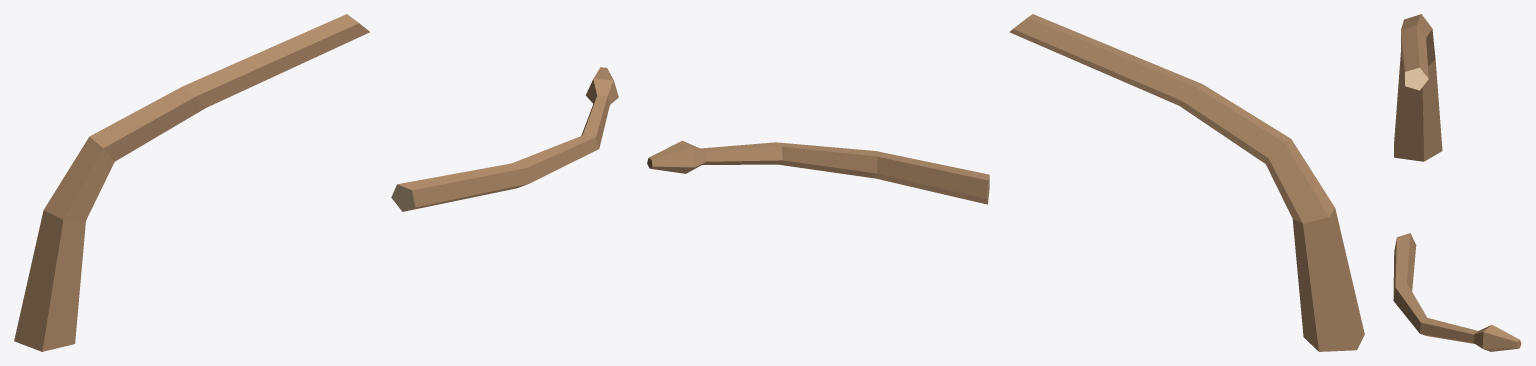
The model's file is Palm_Tree_NoLeaves_crk_m_BT_04.fbx.
3 views of the same model, side by side, from view 1: azimuth 30°, elevation 25°; view 2: azimuth 150°, elevation 25°; view 3: azimuth 270°, elevation 25° (orthographic). The views are drawn at different scales.
Parts seen in each view (by area): view 1: Palm_Tree_NoLeaves_crk_m_BT_04; view 2: Palm_Tree_NoLeaves_crk_m_BT_04; view 3: Palm_Tree_NoLeaves_crk_m_BT_04.
Part boxes in pixels (x1=…): Palm_Tree_NoLeaves_crk_m_BT_04: x1=14, y1=14, x2=618, y2=351; Palm_Tree_NoLeaves_crk_m_BT_04: x1=647, y1=14, x2=1364, y2=351; Palm_Tree_NoLeaves_crk_m_BT_04: x1=1393, y1=14, x2=1521, y2=351.
Size of the model in its own units: 487 by 178 by 99.68.
